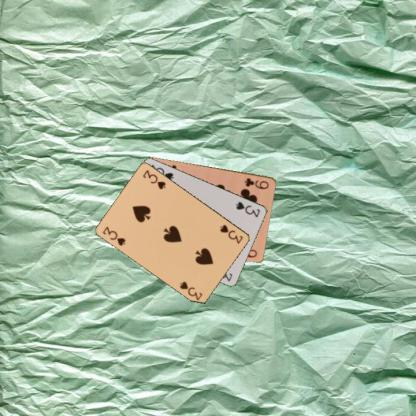3s: (100, 224, 127, 247), (218, 222, 244, 245), (233, 199, 262, 218)
9c: (242, 175, 270, 190)
